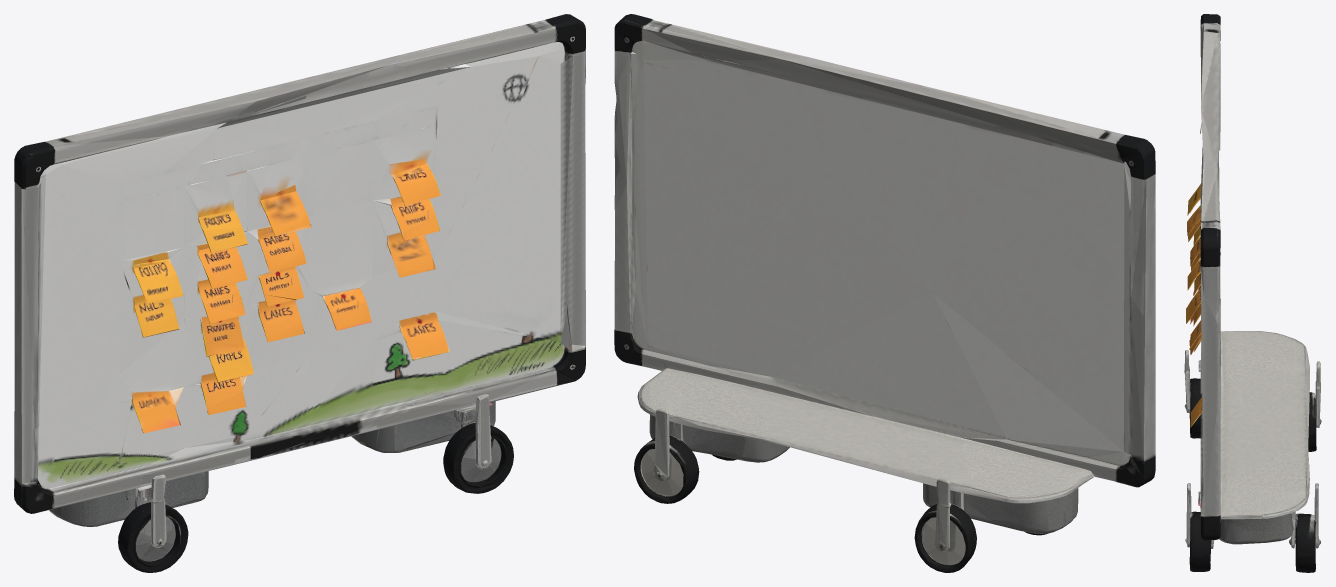
The picture shows the model from 3 angles, left to right: view 1: azimuth 30°, elevation 25°; view 2: azimuth 150°, elevation 25°; view 3: azimuth 270°, elevation 25°; orthographic projection. The views are drawn at different scales.
Bounding box in the file's own units: 1.9 × 1.44 × 0.4776.
1 material, 1 textured.
